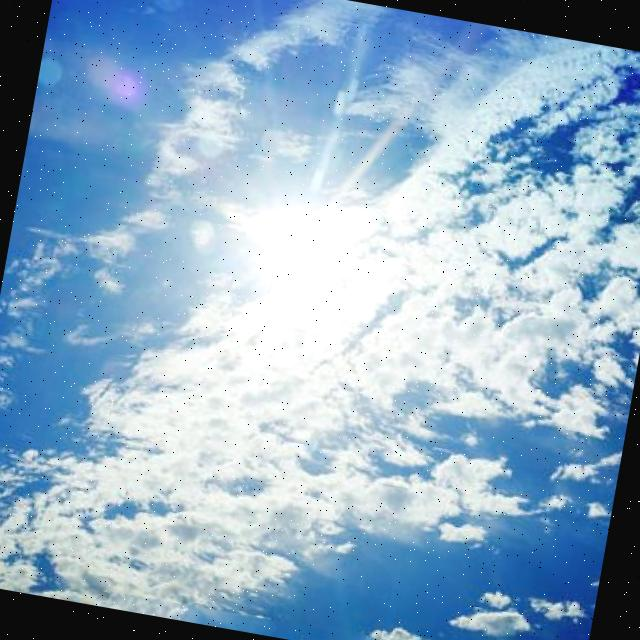Cc: (1, 1, 640, 634)
